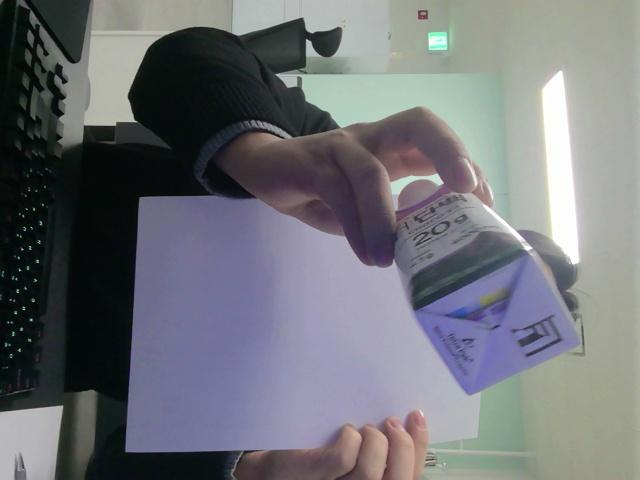milk: (396, 180, 578, 393)
